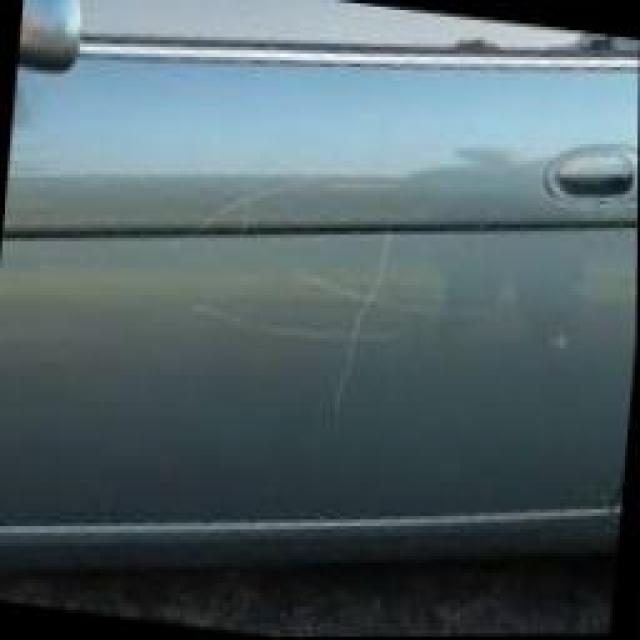Door: (168, 161, 524, 434)
